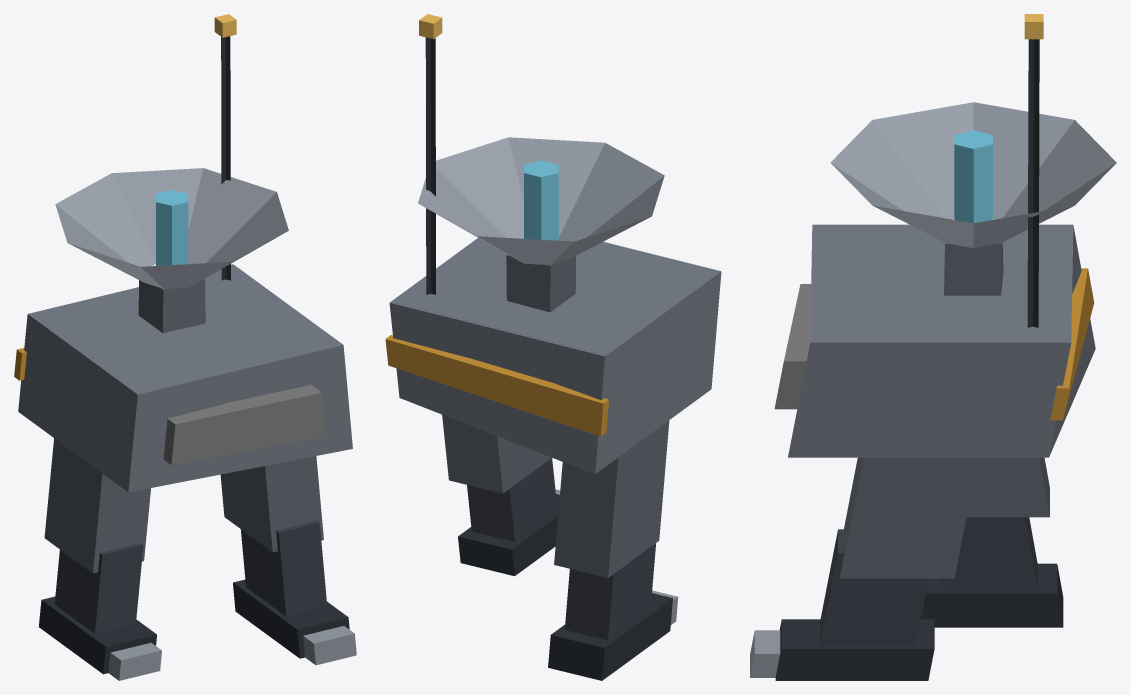
The model's file is hound-walk-3.obj.
3 views of the same model, side by side, from view 1: azimuth 30°, elevation 25°; view 2: azimuth 150°, elevation 25°; view 3: azimuth 270°, elevation 25° (orthographic). The views are drawn at different scales.
Visible parts, largest first — view 1: hound-walk-3; view 2: hound-walk-3; view 3: hound-walk-3.
Boxes of the visible parts, bbox=[...] form: hound-walk-3: bbox=[14, 14, 356, 680]; hound-walk-3: bbox=[385, 14, 721, 680]; hound-walk-3: bbox=[750, 14, 1116, 680].
Size of the model in its own units: 0.92 by 2.36 by 1.15.
